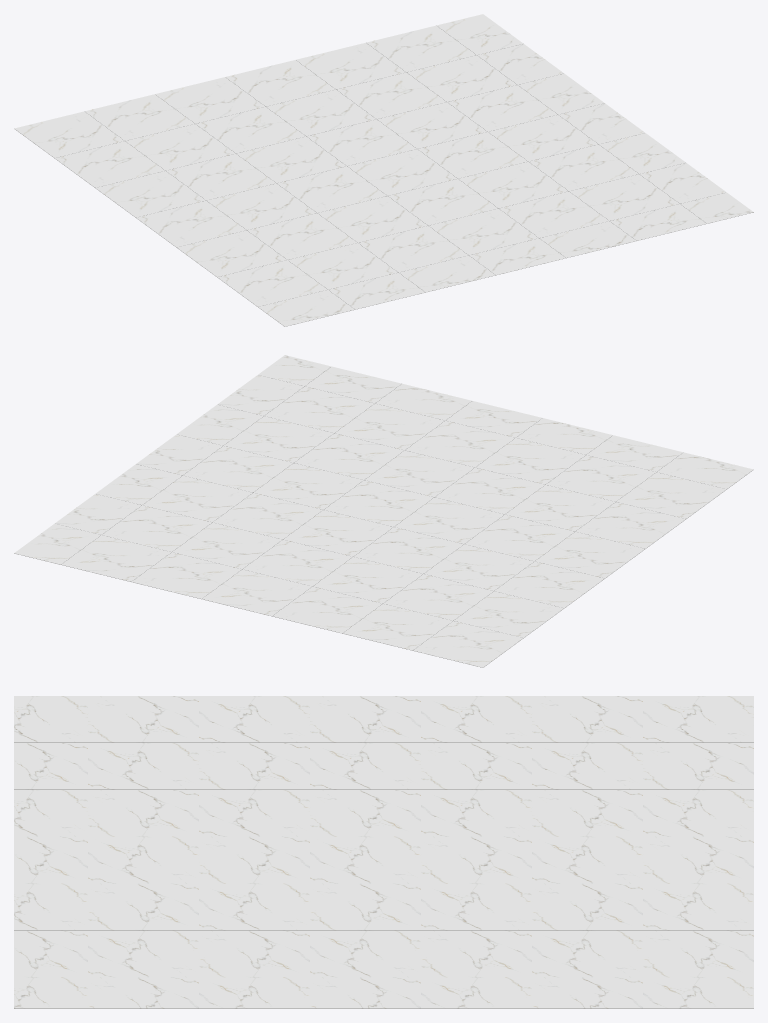
Rendered from montessa-120x120.glb.
3 renders of one model, top to bottom at view 1: azimuth 30°, elevation 25°; view 2: azimuth 150°, elevation 25°; view 3: azimuth 270°, elevation 25°, orthographic. The views are drawn at different scales.
Parts seen in each view (by area): view 1: Montessa; view 2: Montessa; view 3: Montessa.
Boxes of the visible parts, box(x1,y1,x2,y2) form: Montessa: box(14, 14, 753, 326); Montessa: box(14, 355, 753, 667); Montessa: box(14, 696, 753, 1008).
Bounding box in the file's own units: 8 × 0.003 × 8.
Materials: 2 (1 with a texture image).
